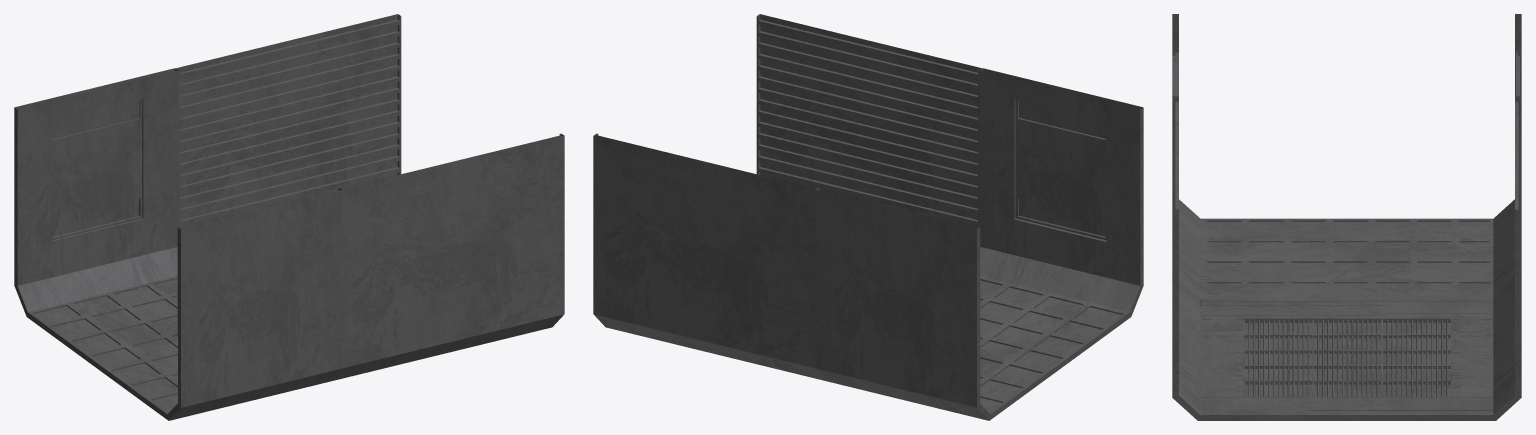
The model's file is Vagones v2.fbx.
3 renders of one model, left to right at view 1: azimuth 30°, elevation 25°; view 2: azimuth 150°, elevation 25°; view 3: azimuth 270°, elevation 25°, orthographic. The views are drawn at different scales.
Parts seen in each view (by area): view 1: Panel 2, Panel; view 2: Panel 2, Panel; view 3: Panel, PisoSencillo, Panel 2.
Part boxes in pixels (x1,y1,x2,y2): Panel 2: (175,14,564,381); Panel: (14,68,341,420); Panel 2: (593,14,982,381); Panel: (816,68,1143,420); Panel: (1172,14,1521,300); PisoSencillo: (1201,301,1493,414); Panel 2: (1172,96,1521,420).
Bounding box in the file's own units: 299884 × 149903 × 225418.
1 material, 1 textured.
